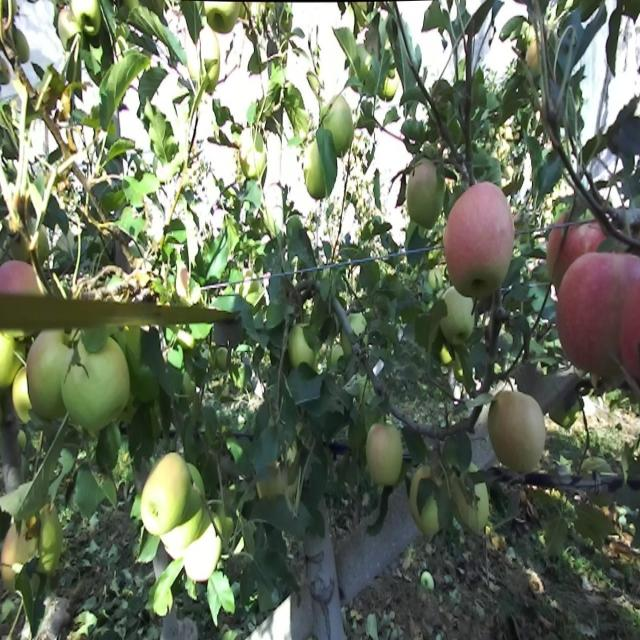apple: (440, 170, 517, 292), (456, 184, 516, 277), (440, 191, 499, 281), (488, 390, 548, 476), (144, 454, 192, 539), (28, 333, 71, 427), (140, 461, 180, 542), (408, 454, 441, 542), (96, 340, 132, 416), (368, 419, 405, 492), (544, 220, 584, 286), (184, 29, 222, 98), (616, 276, 640, 382), (408, 163, 443, 235), (444, 205, 473, 290), (188, 518, 222, 588), (304, 141, 339, 203), (162, 511, 203, 562), (324, 92, 355, 158), (408, 454, 441, 512), (412, 476, 441, 542), (544, 220, 571, 288), (4, 525, 31, 588), (288, 319, 318, 373), (164, 518, 199, 564), (240, 134, 268, 183), (444, 307, 475, 350), (12, 369, 35, 425), (256, 461, 284, 505), (0, 333, 21, 391), (520, 28, 543, 76), (8, 191, 31, 235), (448, 271, 478, 304), (60, 6, 81, 52), (208, 6, 239, 36), (380, 63, 401, 103), (332, 333, 354, 370), (176, 269, 196, 309), (80, 6, 104, 39), (16, 35, 32, 64), (440, 340, 455, 370)
